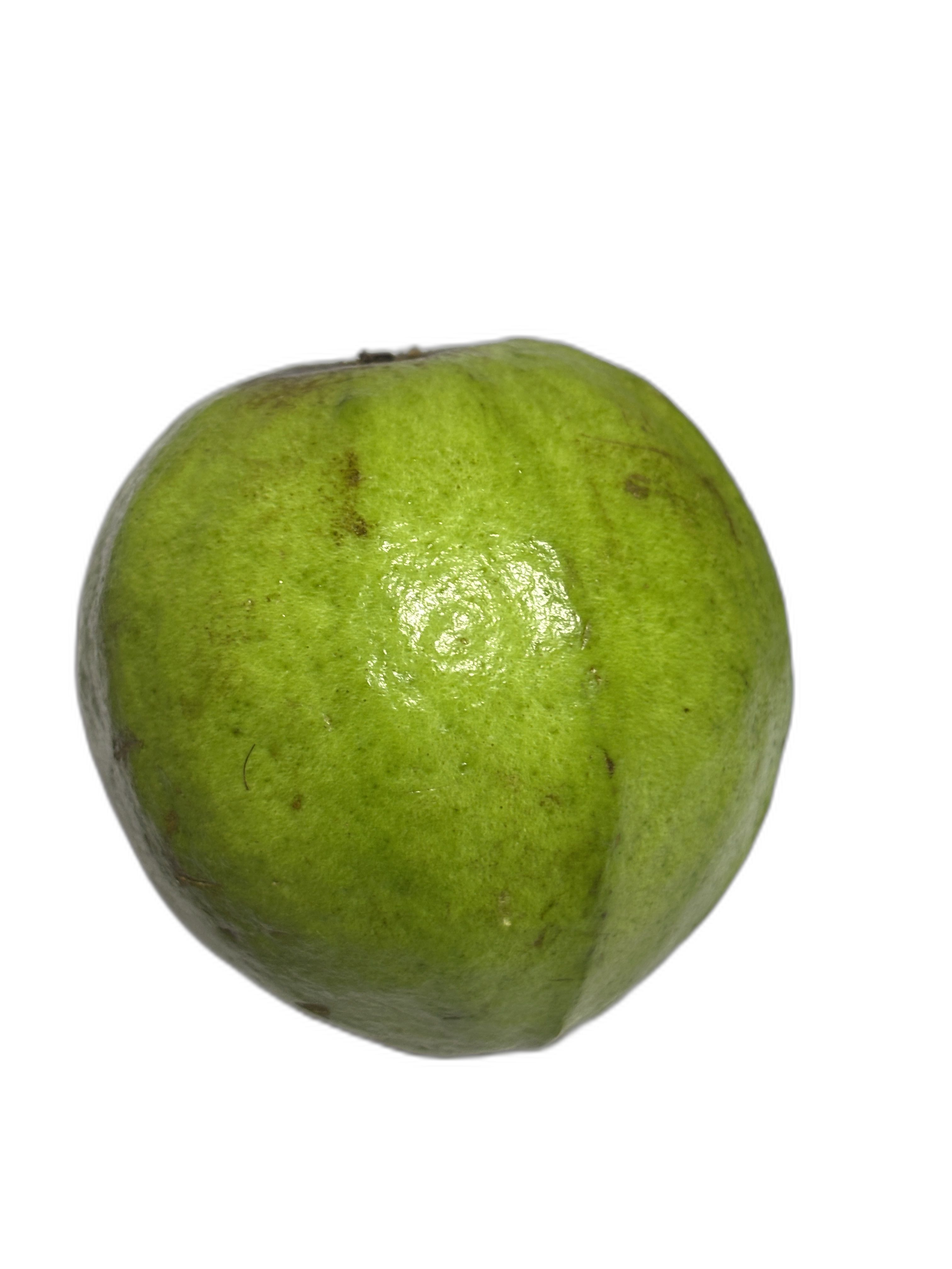guava: (229, 115, 861, 1116)
